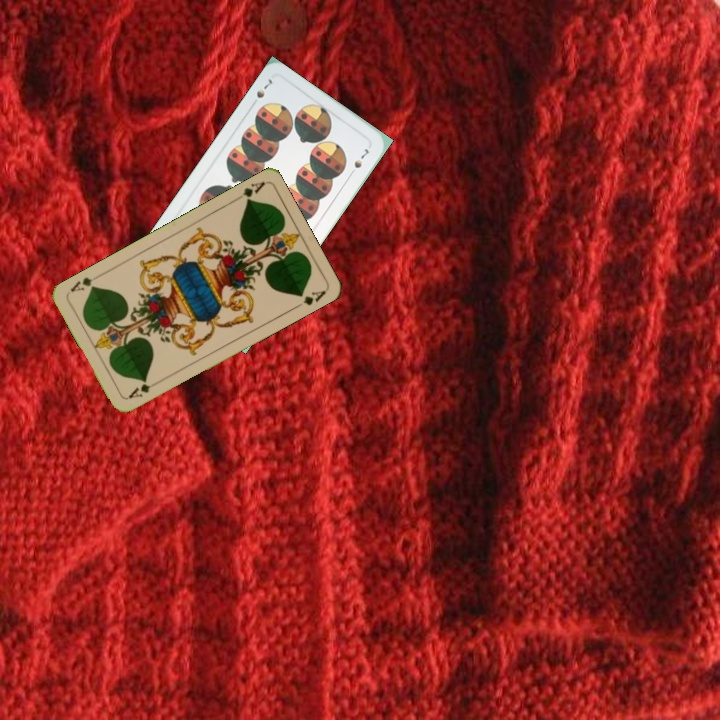GA: (230, 177, 267, 205), (125, 377, 162, 401)
S7: (252, 74, 275, 101)
